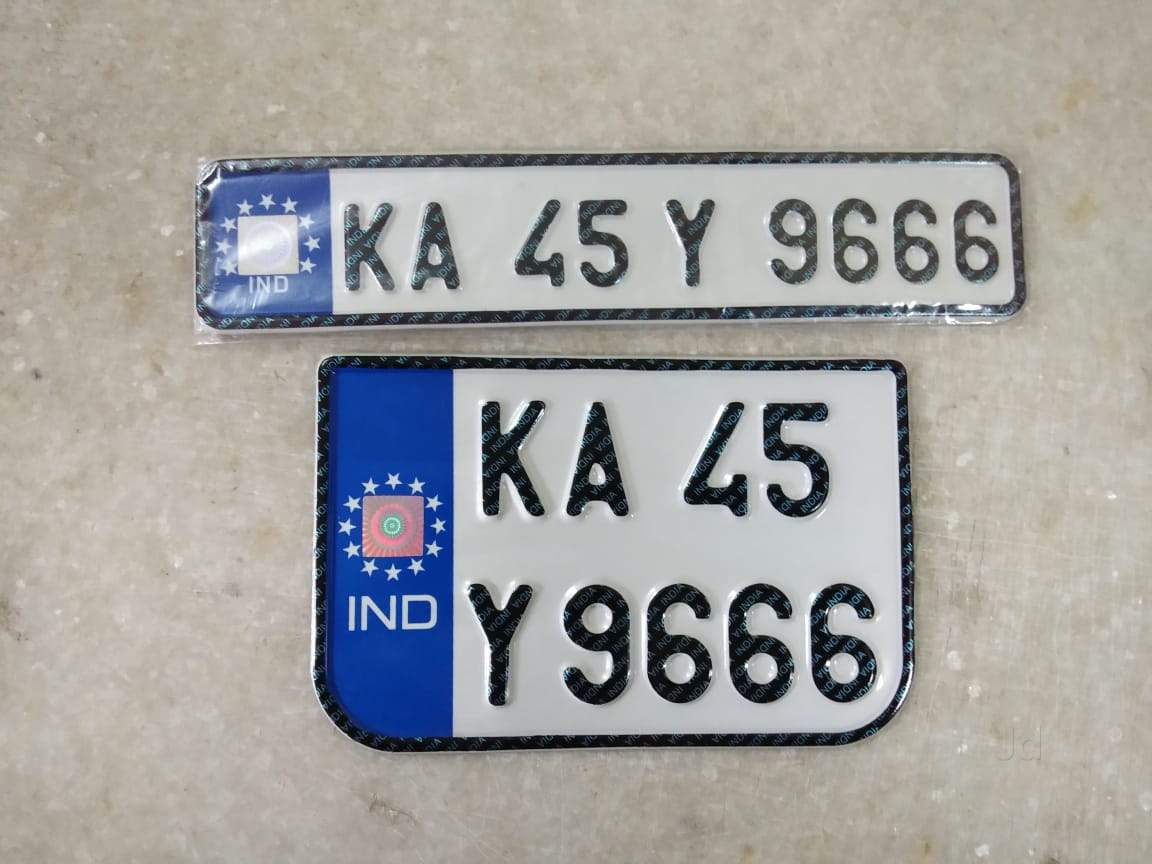number_plate: (314, 352, 910, 748), (192, 149, 1028, 330)
